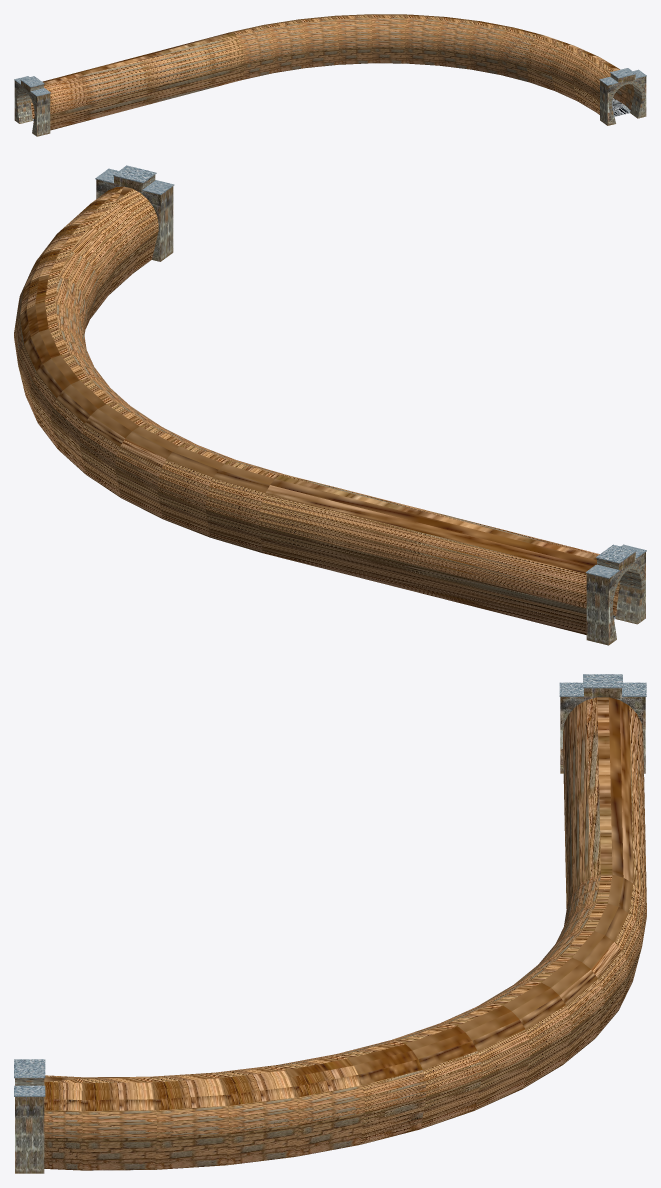
Rendered from GMLID_BUI180021_673_14143.gltf.
The picture shows the model from 3 angles, top to bottom: view 1: azimuth 30°, elevation 25°; view 2: azimuth 150°, elevation 25°; view 3: azimuth 270°, elevation 25°; orthographic projection. The views are drawn at different scales.
Parts seen in each view (by area): view 1: Z_UP; view 2: Z_UP; view 3: Z_UP.
Part boxes in pixels (<box>): Z_UP: <box>14,14,646,136</box>; Z_UP: <box>14,165,646,645</box>; Z_UP: <box>14,674,646,1173</box>.
Size of the model in its own units: 130 by 15.12 by 80.31.
Materials: 4 (4 with a texture image).
